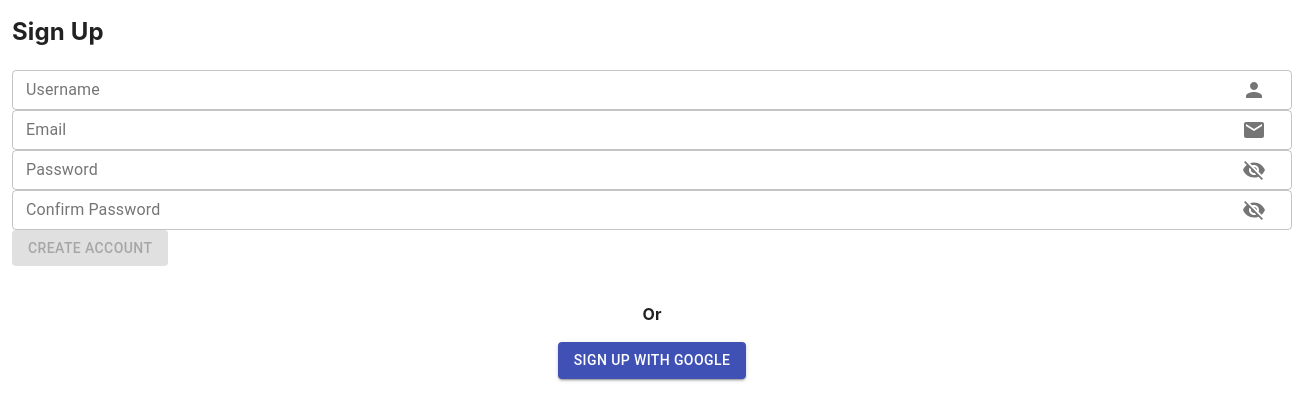
it: SignUp Form › shows error alert, does not navigate to login page if signup request was not successful, and closes the alert when the close button is clicked
The image size is (1292, 399).
Type "Name" into the field labelled "Username" at (617, 90), box [12,70,1222,110]
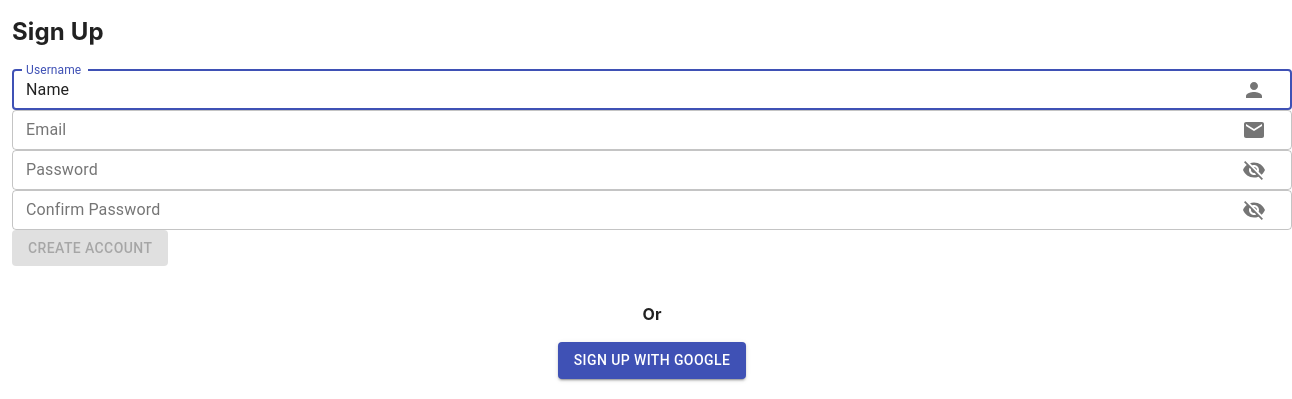
Type "test@email.com" into the field labelled "Email" at (617, 130), box [12,110,1222,150]
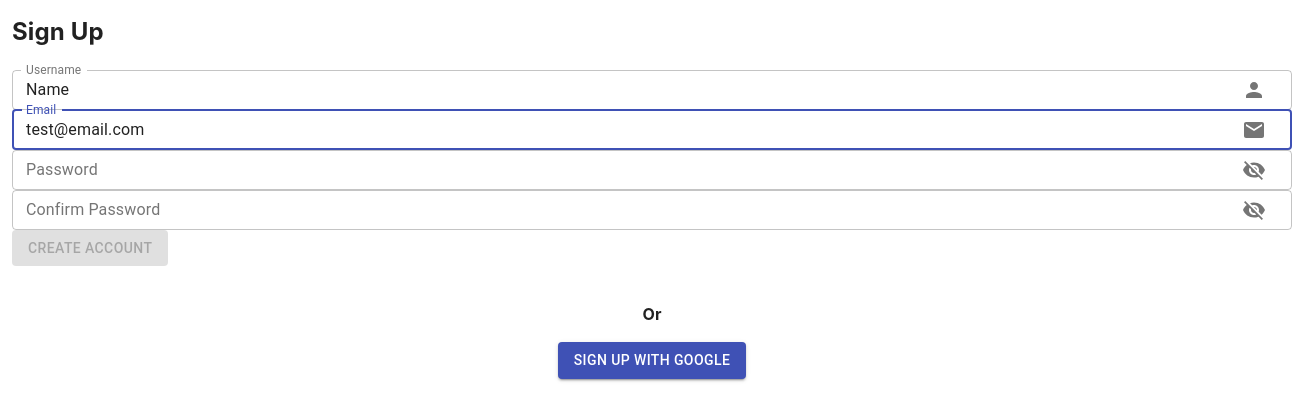
Type "secretpassword" into the password field labelled "Password" at (617, 170), box [12,150,1222,190]
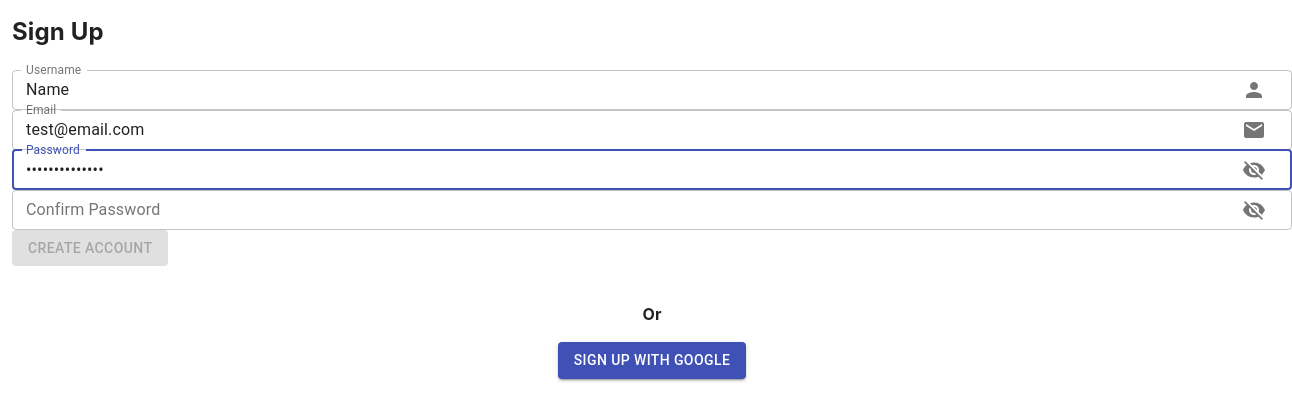
Type "secretpassword" into the password field labelled "Confirm Password" at (617, 210), box [12,190,1222,230]
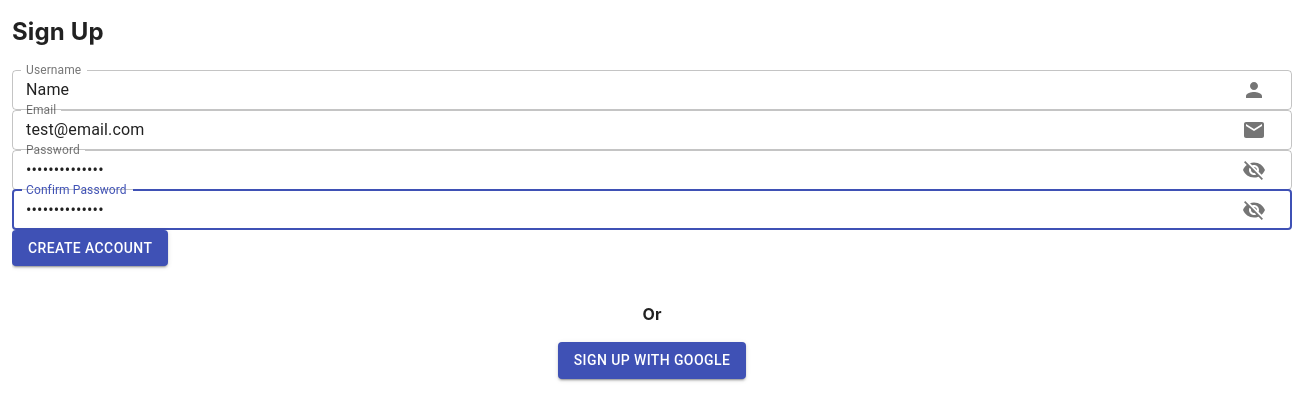
Click the button with aria-label "submit" at (90, 248), box [12,230,168,266]
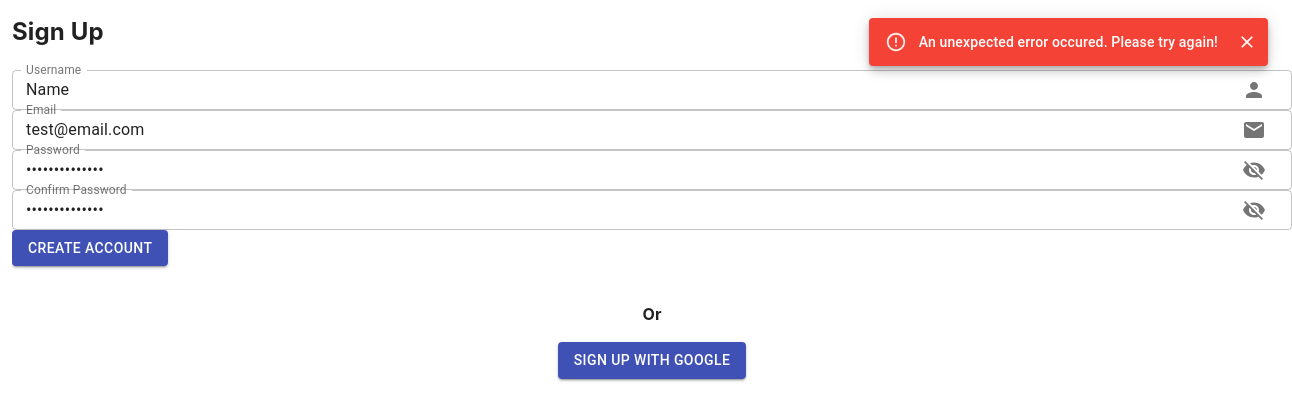
Expected: the message reads "An unexpected error occured. Please try again!", [919,34,1218,50]
// Close alert
Click the button named "Close" at (1247, 42), box [1234,29,1260,55]
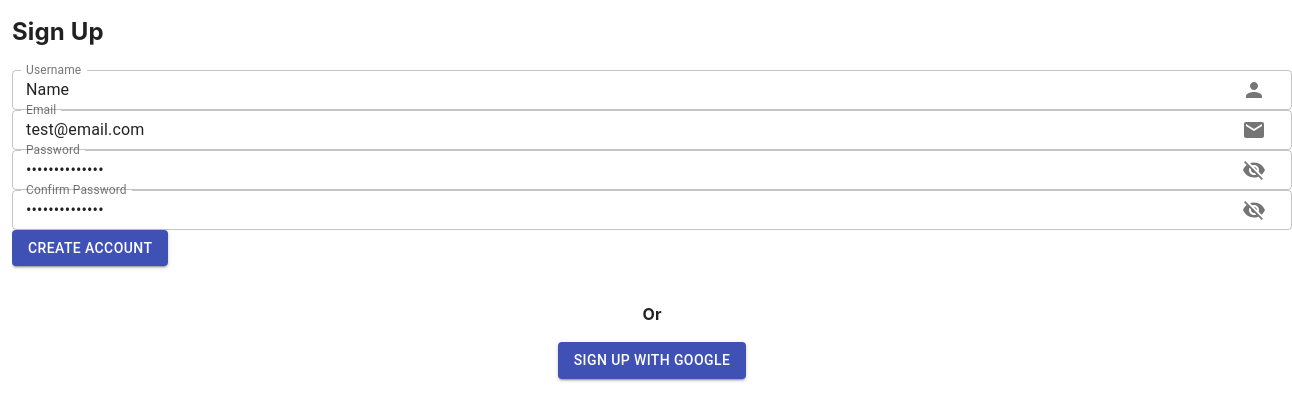
Expected: the message "An unexpected error occured. Please try again!" is gone
